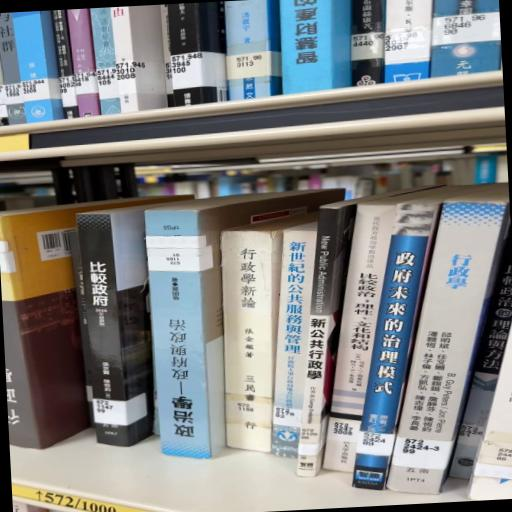reverse: (147, 194, 295, 459)
